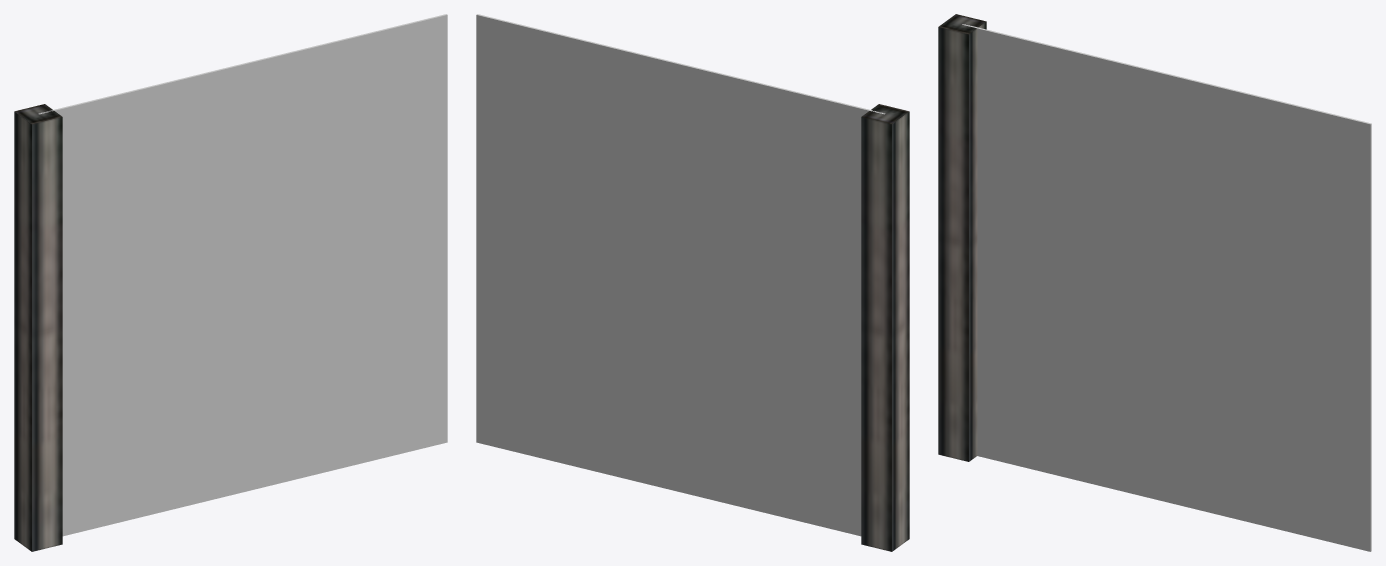
The picture shows the model from 3 angles, left to right: view 1: azimuth 30°, elevation 25°; view 2: azimuth 150°, elevation 25°; view 3: azimuth 330°, elevation 25°; orthographic projection.
Visible parts, largest first — view 1: Cube, Cube.001; view 2: Cube, Cube.001; view 3: Cube, Cube.001.
Boxes of the visible parts, x1=… form: Cube: x1=38, y1=14, x2=447, y2=536; Cube.001: x1=14, y1=104, x2=62, y2=551; Cube: x1=476, y1=14, x2=885, y2=536; Cube.001: x1=861, y1=104, x2=909, y2=551; Cube: x1=962, y1=24, x2=1371, y2=551; Cube.001: x1=938, y1=14, x2=986, y2=461.
Size of the model in its own units: 415 by 400 by 30.
2 materials, 1 textured.
